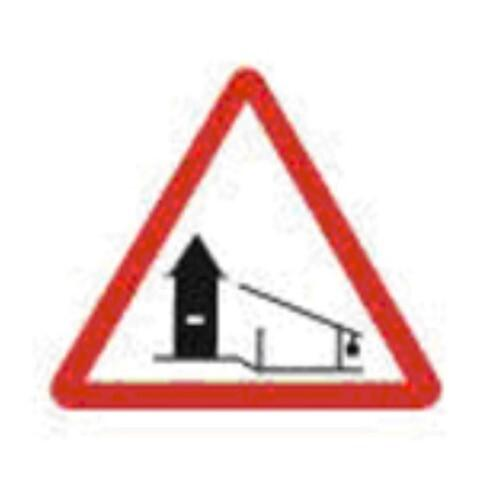Barrier Ahead: (38, 28, 436, 442)
